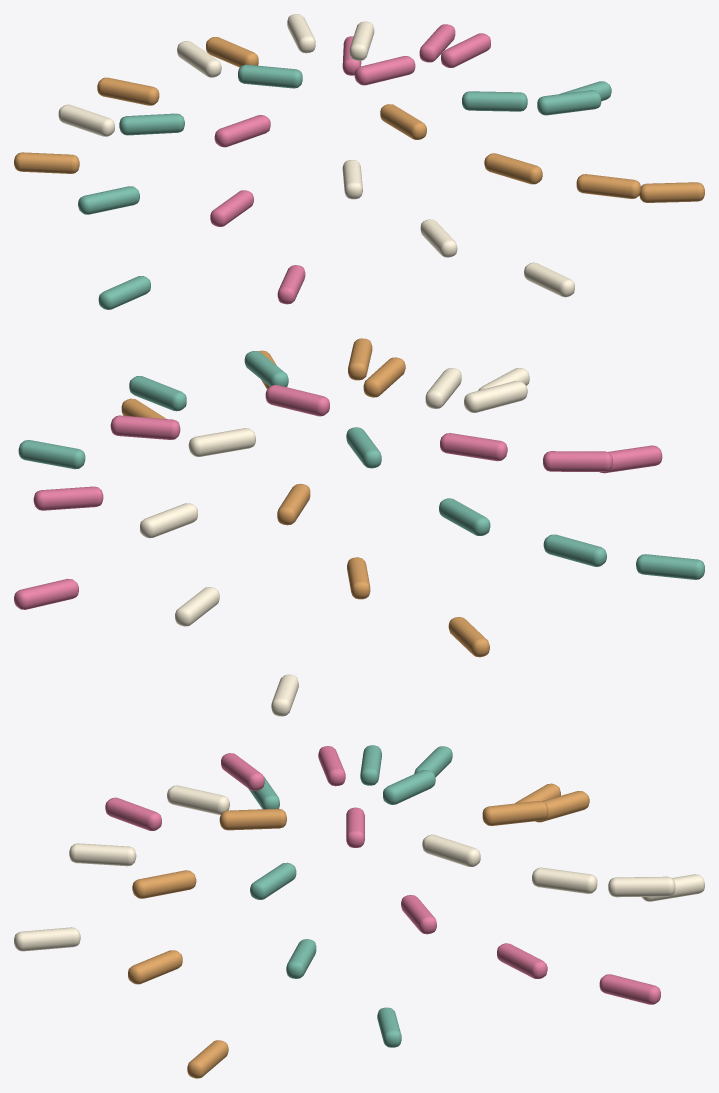
File: Sprinkles_serving_layer.fbx
3 views of the same model, one above another, from view 1: azimuth 30°, elevation 25°; view 2: azimuth 150°, elevation 25°; view 3: azimuth 270°, elevation 25° (orthographic). The views are drawn at different scales.
Parts seen in each view (by area): view 1: Toon_Sprinkles_serving_layer Sprinkle.033, Toon_Sprinkles_serving_layer Sprinkle.037, Toon_Sprinkles_serving_layer Sprinkle.050, Toon_Sprinkles_serving_layer Sprinkle.054, Toon_Sprinkles_serving_layer Sprinkle.029, Toon_Sprinkles_serving_layer Sprinkle.046, Toon_Sprinkles_serving_layer Sprinkle.041, Toon_Sprinkles_serving_layer Sprinkle.042, Toon_Sprinkles_serving_layer Sprinkle.045, Toon_Sprinkles_serving_layer Sprinkle.028, Toon_Sprinkles_serving_layer Sprinkle.038, Toon_Sprinkles_serving_layer Sprinkle.055 (+14 smaller); view 2: Toon_Sprinkles_serving_layer Sprinkle.044, Toon_Sprinkles_serving_layer Sprinkle.036, Toon_Sprinkles_serving_layer Sprinkle.040, Toon_Sprinkles_serving_layer Sprinkle.053, Toon_Sprinkles_serving_layer Sprinkle.032, Toon_Sprinkles_serving_layer Sprinkle.031, Toon_Sprinkles_serving_layer Sprinkle.049, Toon_Sprinkles_serving_layer Sprinkle.052, Toon_Sprinkles_serving_layer Sprinkle.028, Toon_Sprinkles_serving_layer Sprinkle.035, Toon_Sprinkles_serving_layer Sprinkle.045, Toon_Sprinkles_serving_layer Sprinkle.039 (+13 smaller); view 3: Toon_Sprinkles_serving_layer Sprinkle.030, Toon_Sprinkles_serving_layer Sprinkle.043, Toon_Sprinkles_serving_layer Sprinkle.051, Toon_Sprinkles_serving_layer Sprinkle.047, Toon_Sprinkles_serving_layer Sprinkle.034, Toon_Sprinkles_serving_layer Sprinkle.039, Toon_Sprinkles_serving_layer Sprinkle.038, Toon_Sprinkles_serving_layer Sprinkle.035, Toon_Sprinkles_serving_layer Sprinkle.052, Toon_Sprinkles_serving_layer Sprinkle.031, Toon_Sprinkles_serving_layer Sprinkle.048, Toon_Sprinkles_serving_layer Sprinkle.046 (+15 smaller).
Boxes of the visible parts, left/top/right/bottom form: Toon_Sprinkles_serving_layer Sprinkle.033: left=462, top=91, right=527, bottom=111; Toon_Sprinkles_serving_layer Sprinkle.037: left=119, top=113, right=184, bottom=135; Toon_Sprinkles_serving_layer Sprinkle.050: left=14, top=152, right=79, bottom=173; Toon_Sprinkles_serving_layer Sprinkle.054: left=639, top=182, right=704, bottom=202; Toon_Sprinkles_serving_layer Sprinkle.029: left=238, top=64, right=302, bottom=88; Toon_Sprinkles_serving_layer Sprinkle.046: left=576, top=174, right=640, bottom=198; Toon_Sprinkles_serving_layer Sprinkle.041: left=537, top=90, right=601, bottom=115; Toon_Sprinkles_serving_layer Sprinkle.042: left=97, top=77, right=159, bottom=105; Toon_Sprinkles_serving_layer Sprinkle.045: left=78, top=186, right=139, bottom=214; Toon_Sprinkles_serving_layer Sprinkle.028: left=354, top=56, right=415, bottom=85; Toon_Sprinkles_serving_layer Sprinkle.038: left=484, top=153, right=542, bottom=184; Toon_Sprinkles_serving_layer Sprinkle.055: left=58, top=104, right=114, bottom=136; Toon_Sprinkles_serving_layer Sprinkle.044: left=33, top=486, right=103, bottom=510; Toon_Sprinkles_serving_layer Sprinkle.036: left=110, top=415, right=180, bottom=439; Toon_Sprinkles_serving_layer Sprinkle.040: left=543, top=451, right=612, bottom=471; Toon_Sprinkles_serving_layer Sprinkle.053: left=636, top=554, right=704, bottom=579; Toon_Sprinkles_serving_layer Sprinkle.032: left=440, top=433, right=507, bottom=461; Toon_Sprinkles_serving_layer Sprinkle.031: left=188, top=428, right=255, bottom=456; Toon_Sprinkles_serving_layer Sprinkle.049: left=18, top=440, right=85, bottom=469; Toon_Sprinkles_serving_layer Sprinkle.052: left=14, top=578, right=78, bottom=609; Toon_Sprinkles_serving_layer Sprinkle.028: left=265, top=385, right=329, bottom=416; Toon_Sprinkles_serving_layer Sprinkle.035: left=464, top=381, right=527, bottom=412; Toon_Sprinkles_serving_layer Sprinkle.045: left=543, top=534, right=606, bottom=566; Toon_Sprinkles_serving_layer Sprinkle.039: left=140, top=503, right=197, bottom=538; Toon_Sprinkles_serving_layer Sprinkle.030: left=219, top=808, right=286, bottom=830; Toon_Sprinkles_serving_layer Sprinkle.043: left=69, top=843, right=136, bottom=866; Toon_Sprinkles_serving_layer Sprinkle.051: left=14, top=927, right=80, bottom=951; Toon_Sprinkles_serving_layer Sprinkle.047: left=608, top=876, right=675, bottom=897; Toon_Sprinkles_serving_layer Sprinkle.034: left=482, top=801, right=548, bottom=825; Toon_Sprinkles_serving_layer Sprinkle.039: left=532, top=867, right=597, bottom=893; Toon_Sprinkles_serving_layer Sprinkle.038: left=132, top=870, right=196, bottom=898; Toon_Sprinkles_serving_layer Sprinkle.035: left=167, top=785, right=229, bottom=814; Toon_Sprinkles_serving_layer Sprinkle.052: left=599, top=974, right=660, bottom=1004; Toon_Sprinkles_serving_layer Sprinkle.031: left=422, top=834, right=480, bottom=866; Toon_Sprinkles_serving_layer Sprinkle.048: left=105, top=797, right=161, bottom=830; Toon_Sprinkles_serving_layer Sprinkle.046: left=128, top=950, right=182, bottom=984.
Bounding box in the file's own units: 9.11 × 2.2 × 9.26.
